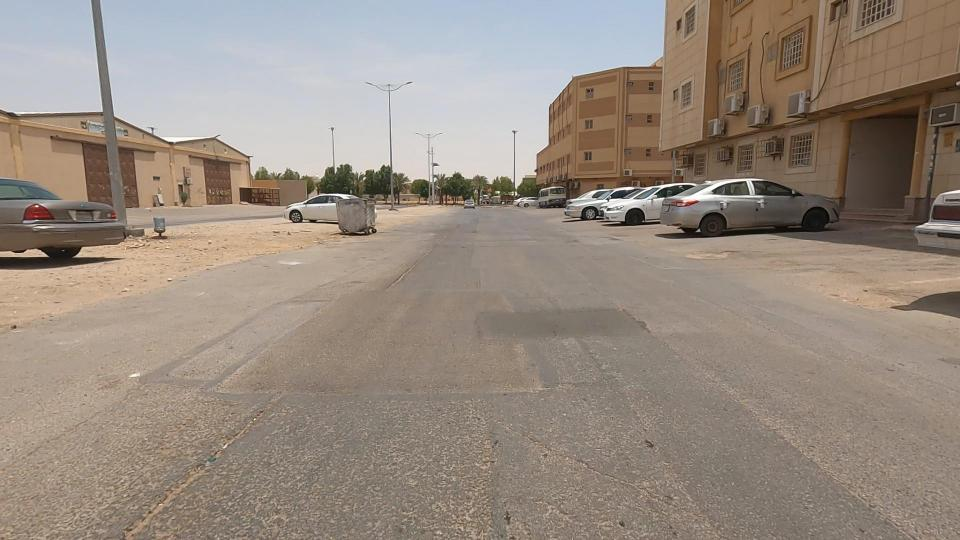CLUTTER_SIDEWALK: (0, 226, 218, 314), (125, 203, 331, 268)
